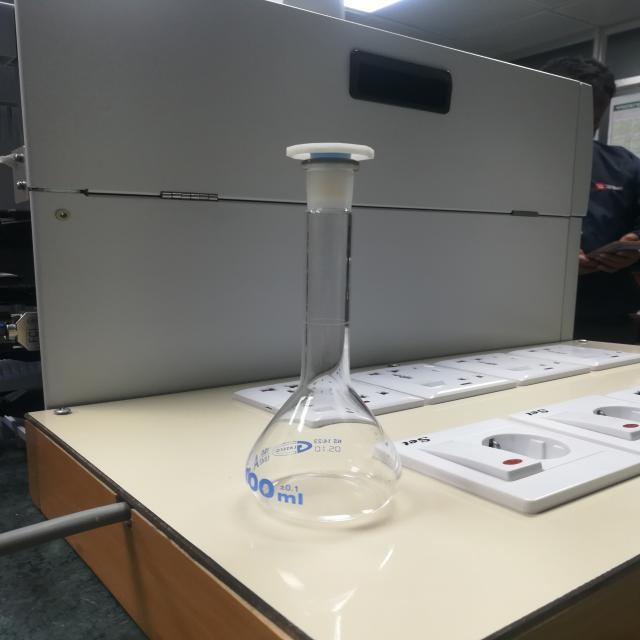Volumetric_Flask: (230, 96, 446, 554)
